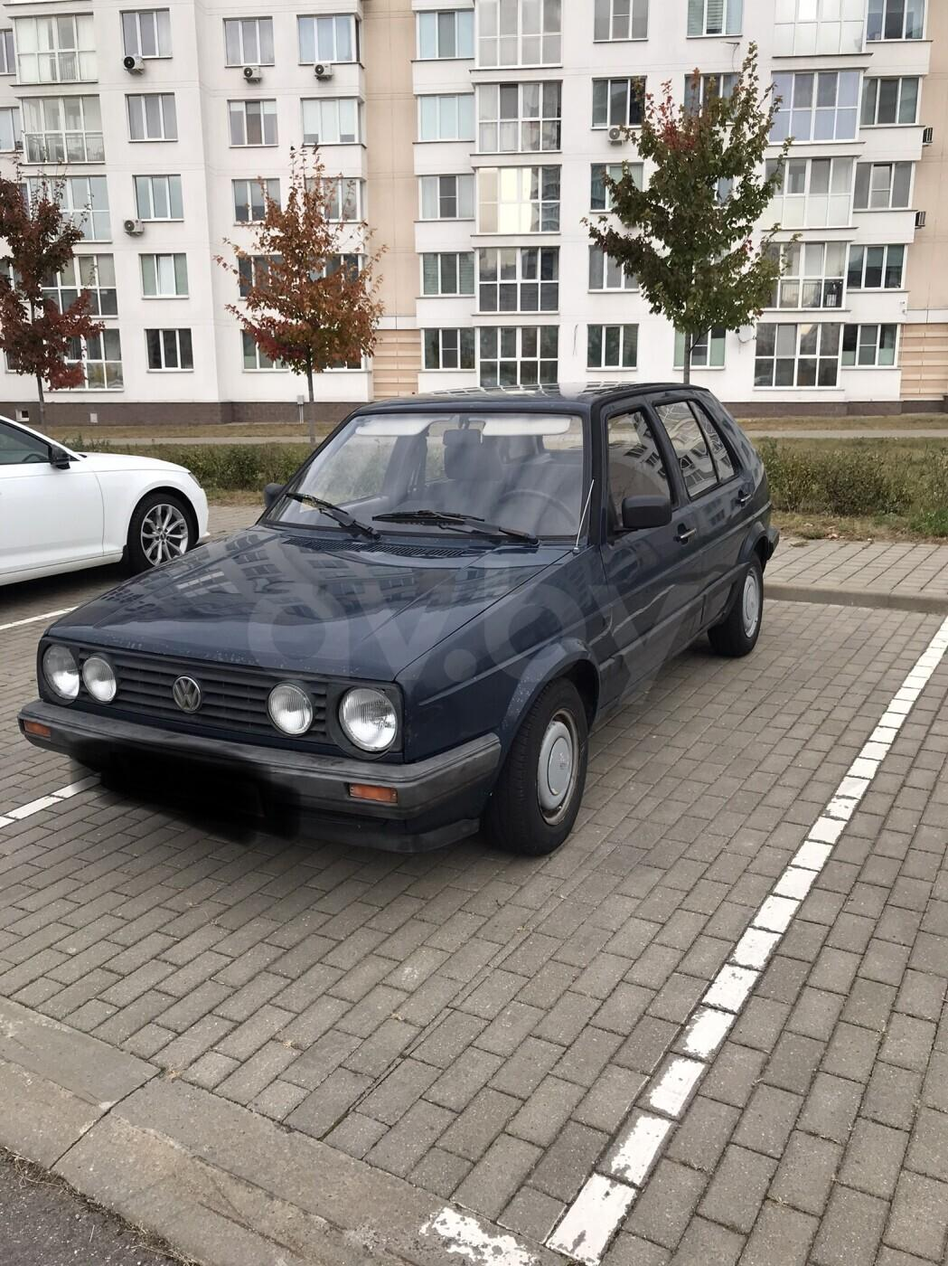Golf_1983-1992: (16, 371, 784, 864)
